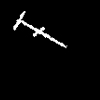double_crochet: (14, 11, 65, 46)
